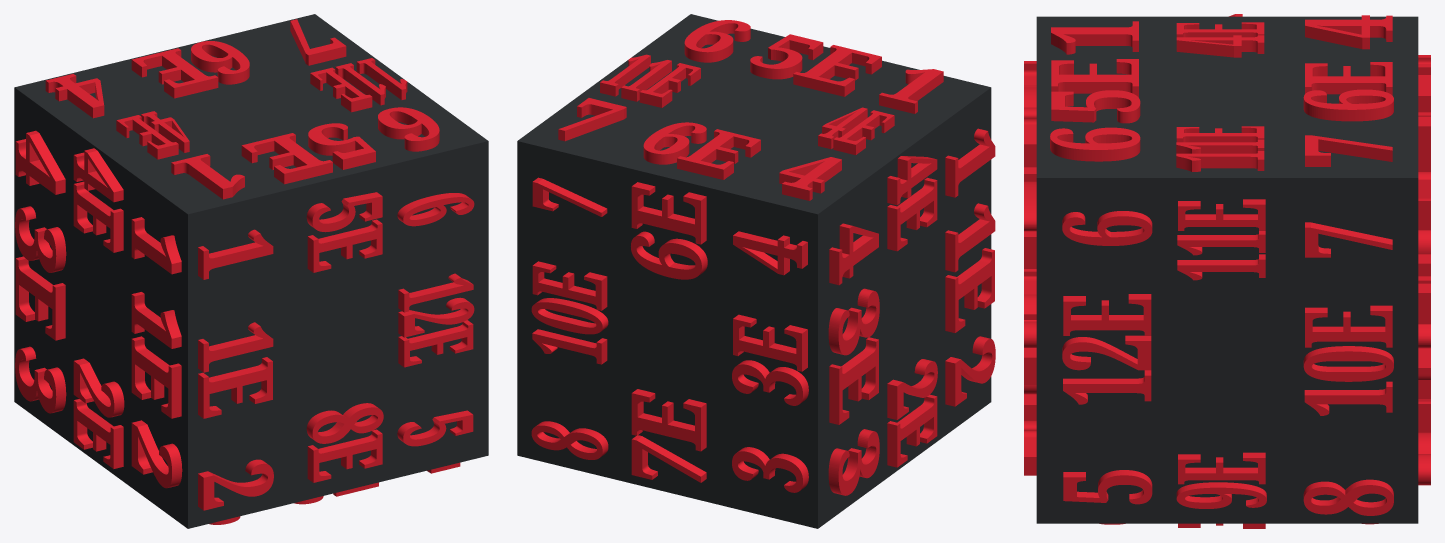
The model's file is tinker.obj.
3 views of the same model, side by side, from view 1: azimuth 30°, elevation 25°; view 2: azimuth 150°, elevation 25°; view 3: azimuth 270°, elevation 25° (orthographic). The views are drawn at different scales.
Visible parts, largest first — view 1: group_0_2829873, group_0_15277357; view 2: group_0_2829873, group_0_15277357; view 3: group_0_2829873, group_0_15277357.
Boxes of the visible parts, x1=… form: group_0_2829873: x1=14, y1=14, x2=488, y2=528; group_0_15277357: x1=15, y1=19, x2=474, y2=524; group_0_2829873: x1=517, y1=14, x2=991, y2=528; group_0_15277357: x1=531, y1=20, x2=995, y2=495; group_0_2829873: x1=1036, y1=16, x2=1418, y2=523; group_0_15277357: x1=1024, y1=14, x2=1430, y2=528.
Bounding box in the file's own units: 32 × 32 × 32.
